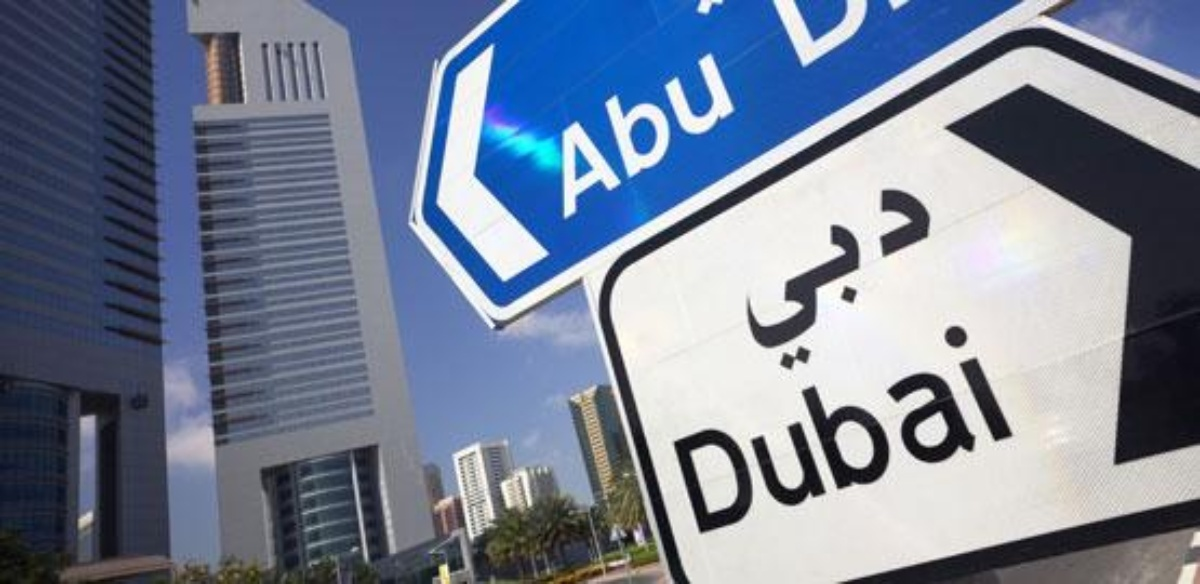text: (673, 316, 688, 539), (689, 316, 704, 539), (705, 316, 720, 539), (721, 316, 736, 539), (737, 316, 752, 539), (753, 316, 768, 539), (769, 316, 784, 539), (785, 316, 800, 539), (801, 316, 816, 539), (817, 316, 832, 539), (833, 316, 848, 539), (849, 316, 864, 539), (865, 316, 880, 539), (881, 316, 896, 539), (897, 316, 912, 539), (913, 316, 928, 539), (929, 316, 944, 539), (945, 316, 960, 539), (961, 316, 976, 539), (977, 316, 992, 539), (993, 316, 1008, 539), (721, 174, 736, 386), (737, 174, 752, 386), (753, 174, 768, 386), (769, 174, 784, 386), (785, 174, 800, 386), (801, 174, 816, 386), (817, 174, 832, 386), (833, 174, 848, 386), (849, 174, 864, 386), (865, 174, 880, 386), (881, 174, 896, 386), (897, 174, 912, 386), (913, 174, 928, 386), (929, 174, 944, 386), (945, 174, 960, 386), (561, 31, 576, 228), (577, 31, 592, 228), (593, 31, 608, 228), (609, 31, 624, 228), (625, 31, 640, 228), (641, 31, 656, 228), (657, 31, 672, 228), (673, 31, 688, 228), (689, 31, 704, 228), (705, 31, 720, 228), (721, 31, 736, 228), (1009, 316, 1017, 539), (737, 31, 746, 228), (961, 174, 969, 386), (554, 31, 560, 228), (769, 1, 784, 72), (785, 1, 800, 72), (801, 1, 816, 72), (817, 1, 832, 72), (833, 1, 848, 72), (849, 1, 864, 72), (865, 1, 880, 72), (757, 1, 768, 72), (718, 174, 720, 386), (671, 316, 672, 539)
